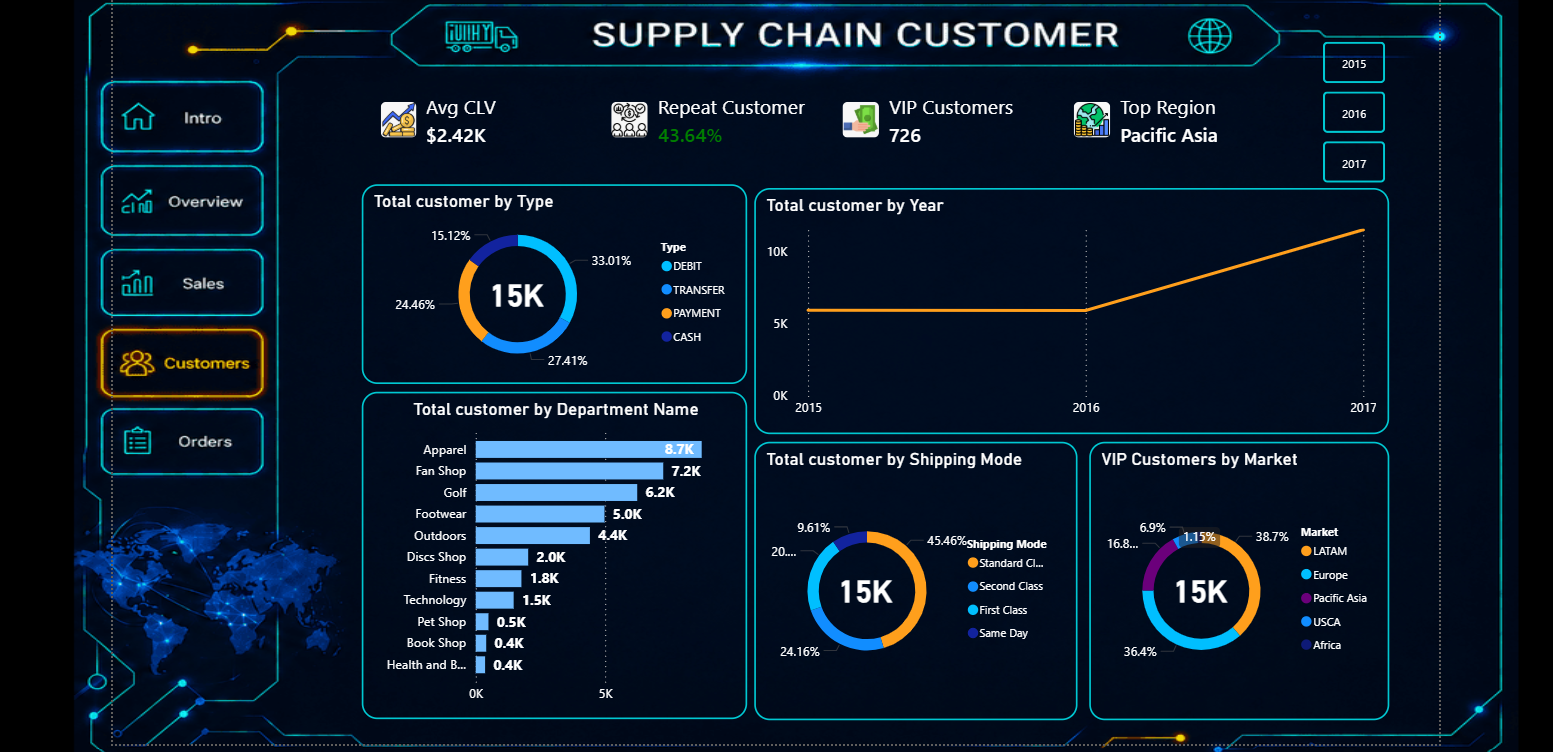

The page's visual inventory and layout, read from the dashboard file:
{"tool":"powerbi","page":{"name":"Customers","canvas":[1280,720],"ordinal":3},"visuals":[{"type":"cardVisual","fields":{"Data":["measures (2).Avg CLV","measures (2).Repeat Customer Rate","measures (2).VIP Customers Count","measures (2).Top Region"]},"box":[239.5,55.8,923.3,124.4],"z":0},{"type":"actionButton","box":[68.8,82,131.5,61.5],"z":1000},{"type":"actionButton","box":[68.8,166.5,131.5,57.9],"z":2000},{"type":"actionButton","box":[68.8,244.9,131.5,56.7],"z":3000},{"type":"actionButton","box":[68.8,401.7,131.5,53.1],"z":4000},{"type":"donutChart","fields":{"Category":["Dim Geography.Market"],"Y":["measures (2).VIP Customers Count"]},"box":[941.9,427.9,289.5,268.6],"z":5000},{"type":"donutChart","fields":{"Y":["measures (2).Total customer"],"Category":["Dim shiping mode.Shipping Mode"]},"box":[618.6,427.9,311.6,268.6],"z":6000},{"type":"clusteredBarChart","fields":{"Category":["Dim Department.Department Name"],"Y":["measures (2).Total customer"]},"box":[239.5,380.2,372.1,316.3],"z":7000},{"type":"card","fields":{"Values":["measures (2).Total customer"]},"box":[673.3,526.7,105.8,88.4],"z":8000},{"type":"card","fields":{"Values":["measures (2).Total customer"]},"box":[996.5,526.7,105.8,88.4],"z":9000},{"type":"donutChart","fields":{"Y":["measures (2).Total customer"],"Category":["Dim Payment Type.Type"]},"box":[239.5,180.2,372.1,193],"z":10000},{"type":"advancedSlicerVisual","fields":{"Values":["DimDate.Year"]},"box":[1162.8,37.2,70.9,146.5],"z":11000},{"type":"card","fields":{"Values":["measures (2).Total customer"]},"box":[336,240.7,105.8,88.4],"z":12000},{"type":"lineChart","fields":{"Y":["measures (2).Total customer"],"Category":["DimDate.Year"]},"box":[618.6,183.7,612.8,237.2],"z":13000}]}

Visuals, with their boxes on the page's 1280x720 design canvas (x1, y1, x2, y2). These are canvas units, not pixel positions in the 1553x752 screenshot, which may show the page scaled, cropped or inside an application window:
cardVisual - measures (2).Avg CLV x measures (2).Repeat Customer Rate: bbox=(240, 56, 1163, 180)
actionButton: bbox=(69, 82, 200, 144)
actionButton: bbox=(69, 166, 200, 224)
actionButton: bbox=(69, 245, 200, 302)
actionButton: bbox=(69, 402, 200, 455)
donutChart - Dim Geography.Market x measures (2).VIP Customers Count: bbox=(942, 428, 1231, 696)
donutChart - measures (2).Total customer x Dim shiping mode.Shipping Mode: bbox=(619, 428, 930, 696)
clusteredBarChart - Dim Department.Department Name x measures (2).Total customer: bbox=(240, 380, 612, 696)
card - measures (2).Total customer: bbox=(673, 527, 779, 615)
card - measures (2).Total customer: bbox=(996, 527, 1102, 615)
donutChart - measures (2).Total customer x Dim Payment Type.Type: bbox=(240, 180, 612, 373)
advancedSlicerVisual - DimDate.Year: bbox=(1163, 37, 1234, 184)
card - measures (2).Total customer: bbox=(336, 241, 442, 329)
lineChart - measures (2).Total customer x DimDate.Year: bbox=(619, 184, 1231, 421)
